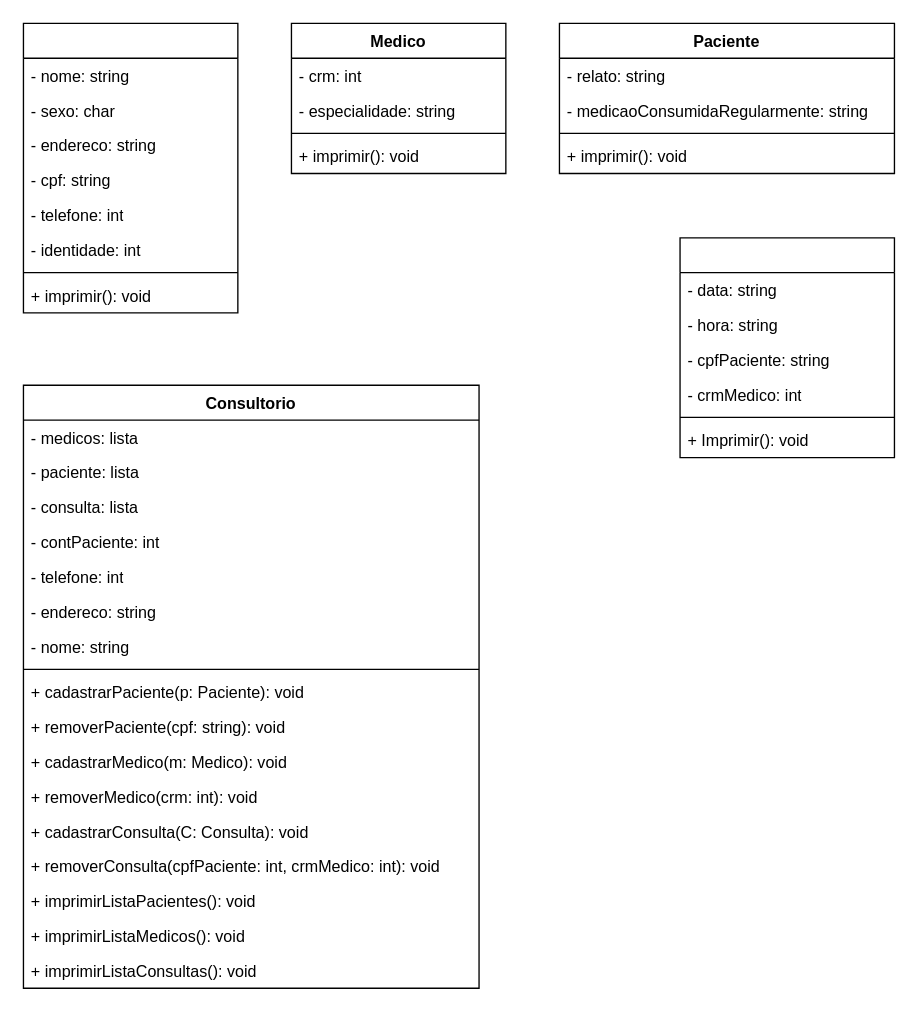
Image size: 918x1016. Some labels were removed from this diagram. Each missing label, with the box of its shape:
Consulta: (679, 237, 894, 458)
Pessoa: (22, 22, 238, 313)
